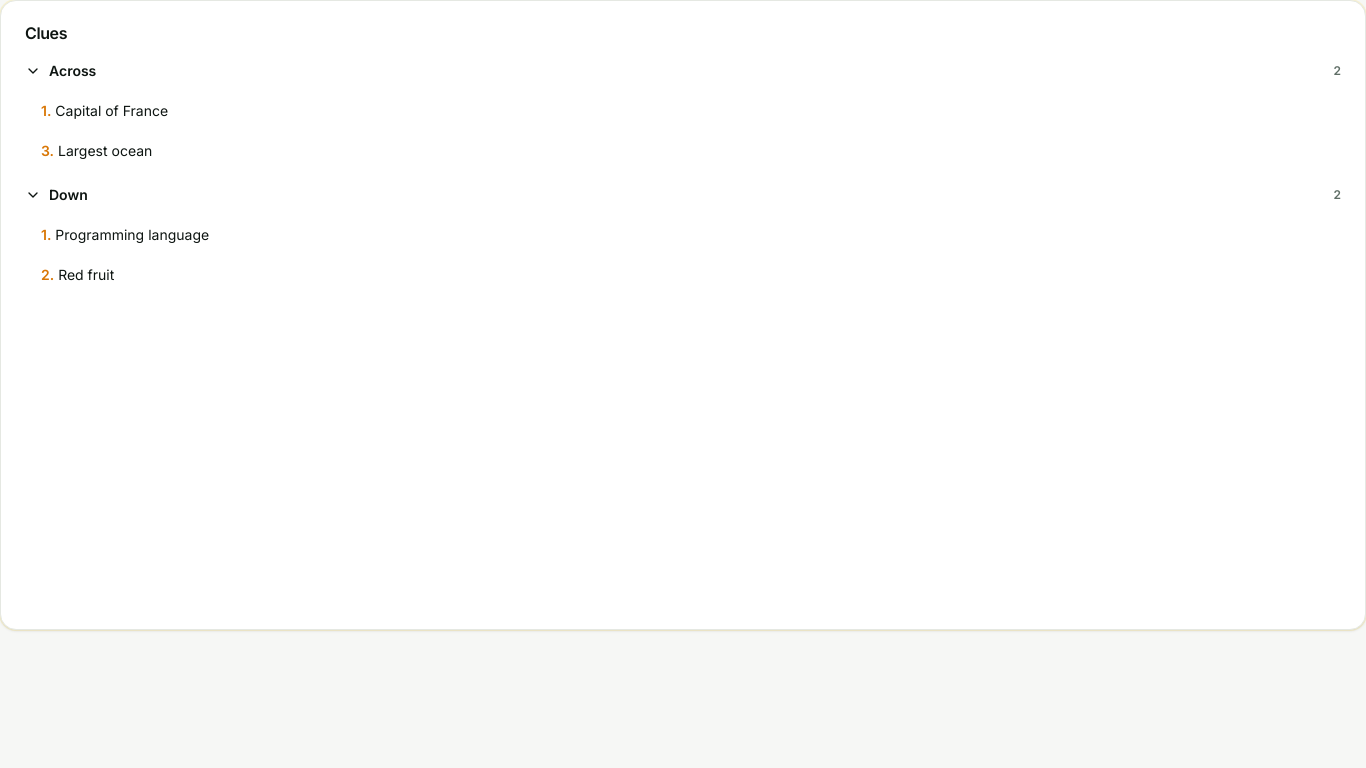
Test: CluesPanel › should toggle down section collapse
The image size is (1366, 768).
Click the button "Down 2". click: (68, 194)
box: [17, 177, 1349, 213]
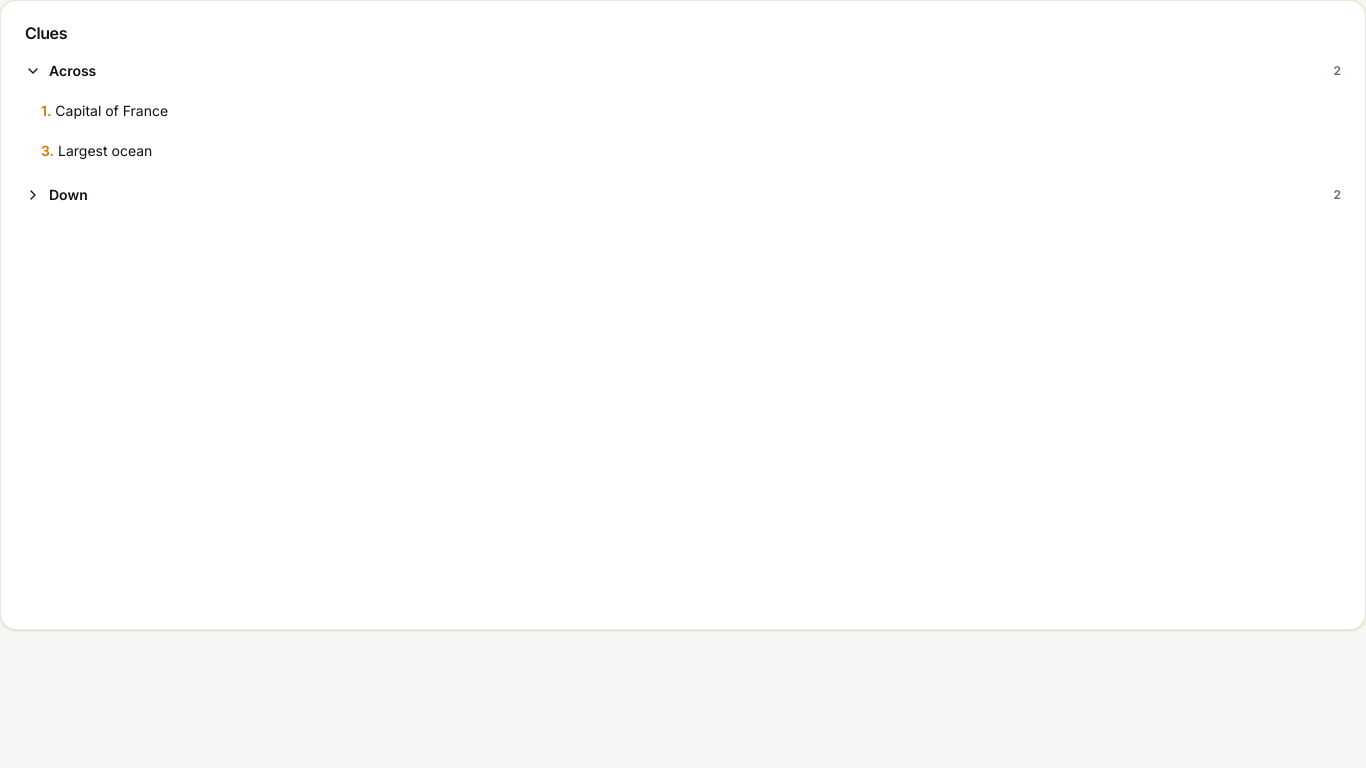
Check: the button "Down 2" is collapsed
Check: the button "Programming language" is gone
# Expand again
Click the button "Down 2". click: (68, 194)
box: [17, 177, 1349, 213]
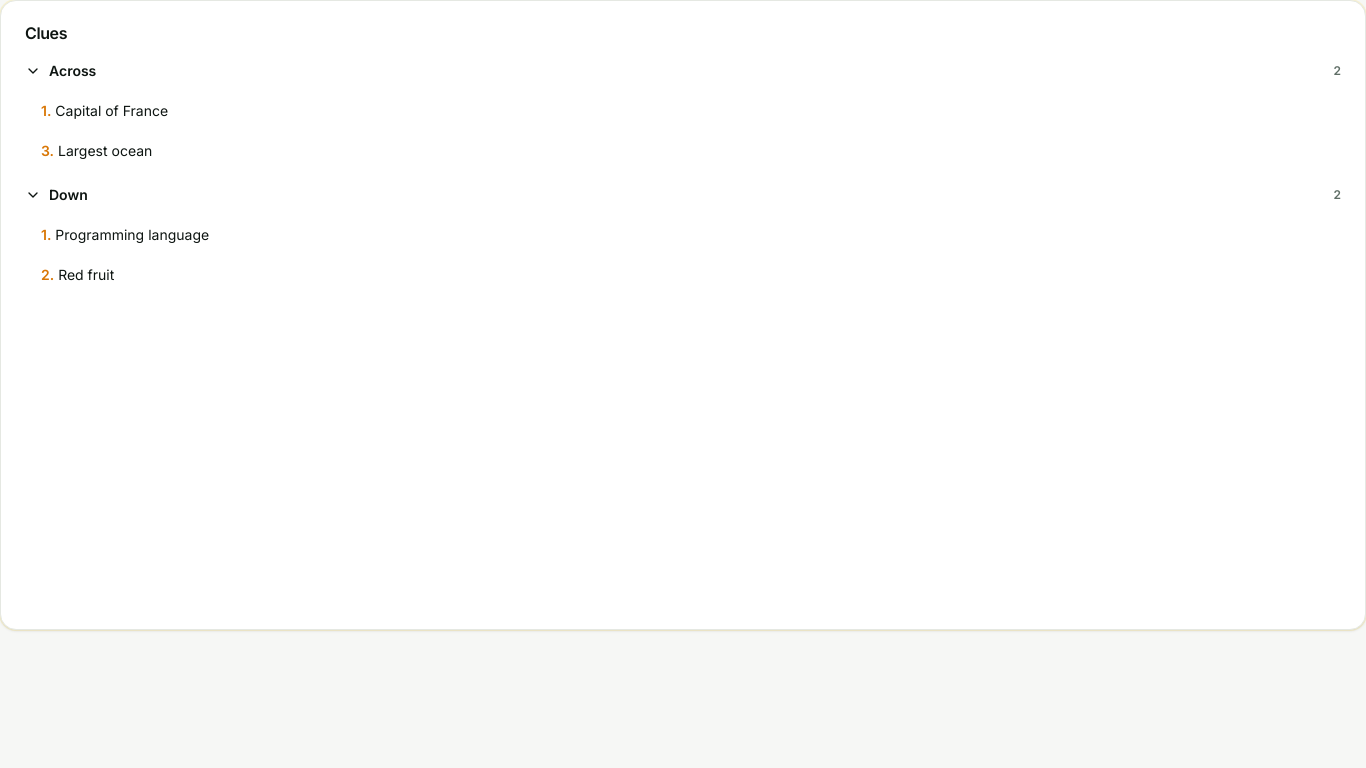
Check: the button "Down 2" is expanded, box [17, 177, 1349, 213]
Check: the text "Programming language" is shown, box [55, 226, 209, 243]
